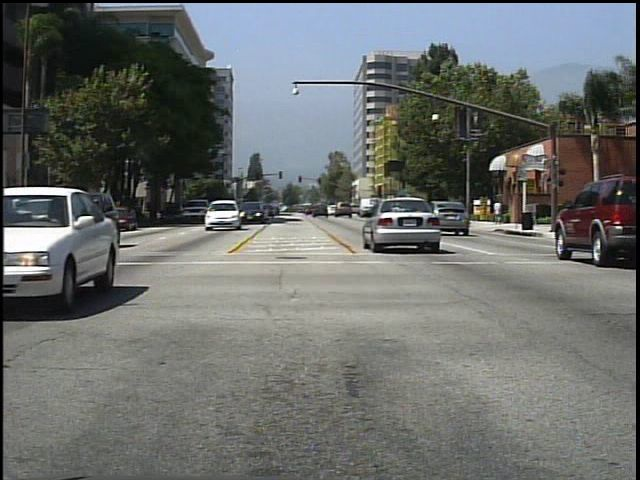person: (449, 194, 467, 229), (492, 195, 505, 227)
